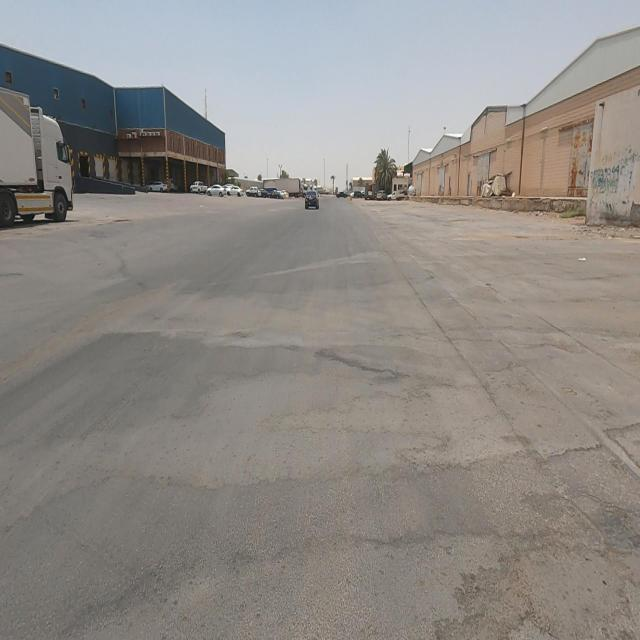Graffiti: (591, 147, 640, 215)
